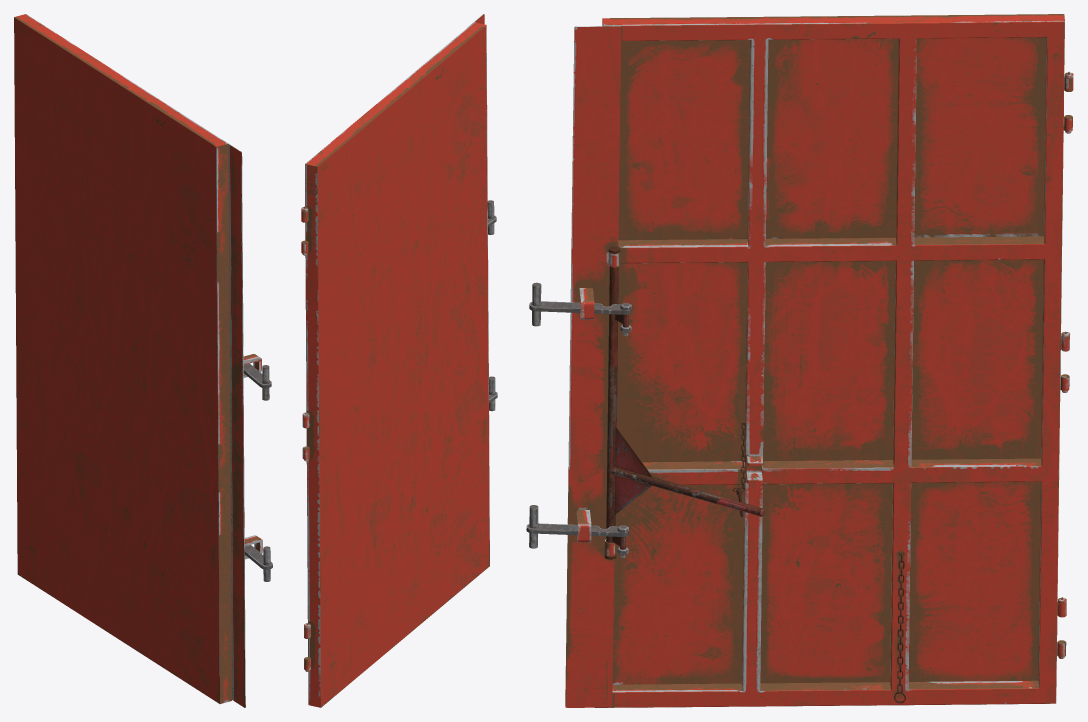
The model's file is rework.glb.
The picture shows the model from 3 angles, left to right: view 1: azimuth 30°, elevation 25°; view 2: azimuth 150°, elevation 25°; view 3: azimuth 270°, elevation 25°; orthographic projection. The views are drawn at different scales.
Visible parts, largest first — view 1: dreapta, DRUG.003; view 2: dreapta, DRUG.003; view 3: dreapta, maner, DRUG.003, LANTURI DREAPTA.003.
Boxes of the visible parts, <box> form: dreapta: <box>14,14,263,707</box>; DRUG.003: <box>243,363,272,581</box>; dreapta: <box>301,14,489,707</box>; DRUG.003: <box>487,200,497,411</box>; dreapta: <box>565,14,1073,707</box>; maner: <box>604,246,764,559</box>; DRUG.003: <box>526,282,631,558</box>; LANTURI DREAPTA.003: <box>733,422,905,703</box>.
Size of the model in its own units: 0.4989 by 2.58 by 1.86.
Materials: 4 (4 with a texture image).
